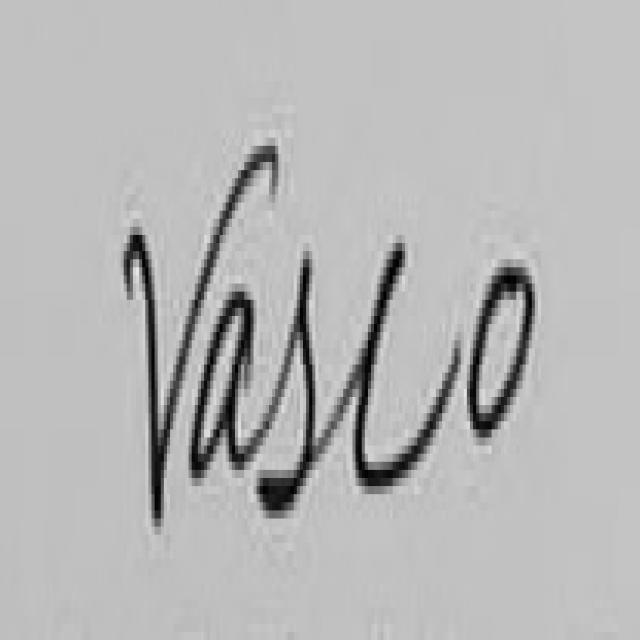V: (124, 146, 278, 523)
a: (192, 292, 254, 474)
l: (315, 243, 464, 486)
o: (470, 267, 535, 437)
s: (241, 259, 315, 510)
